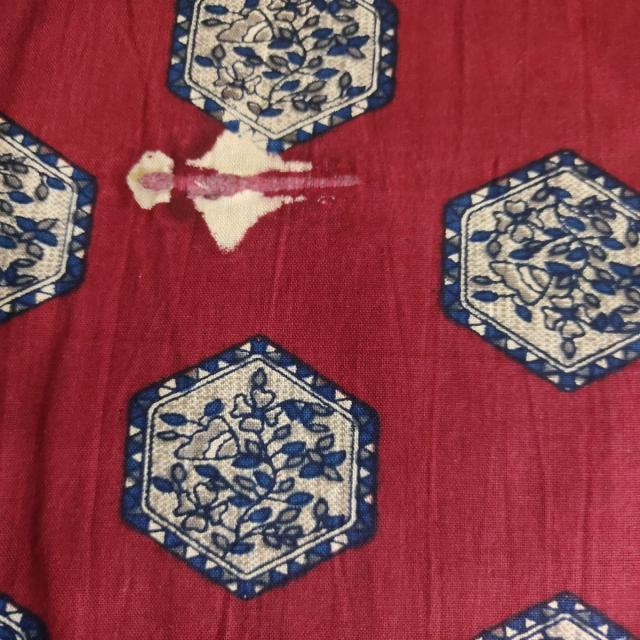stain: (118, 139, 335, 229)
